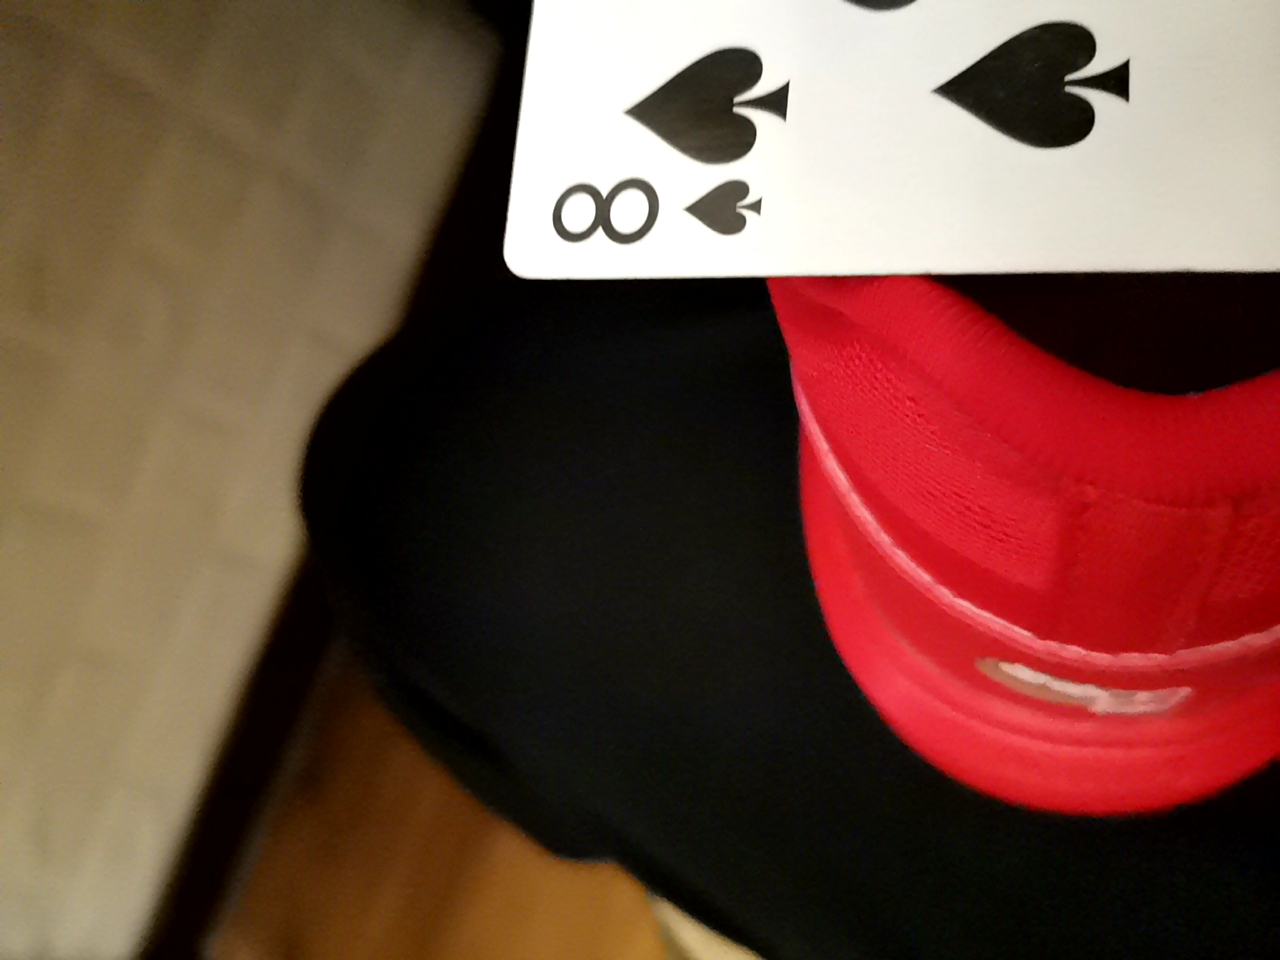ht 8: (456, 0, 1280, 301)
